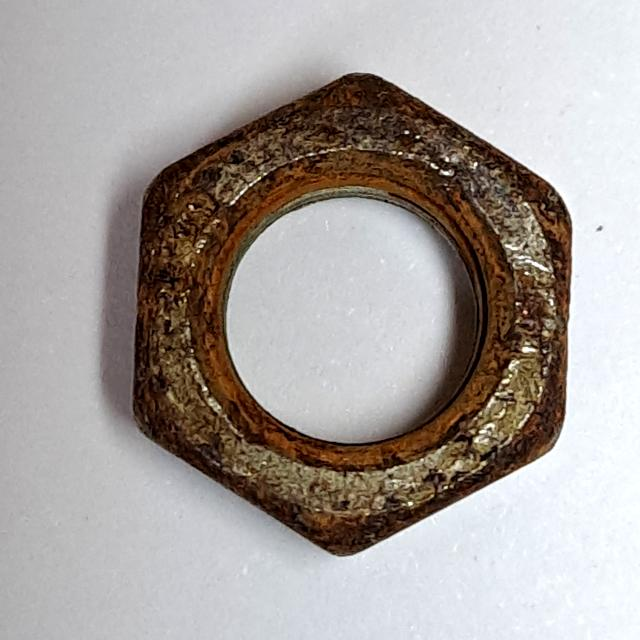Rust: (119, 64, 586, 572)
